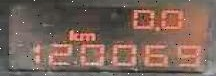-: (154, 25, 159, 30)
0: (109, 43, 135, 65), (78, 43, 104, 65), (158, 9, 182, 29), (131, 9, 154, 29)
1: (31, 43, 41, 63)
2: (47, 43, 71, 64)
6: (142, 44, 166, 65)
9: (175, 45, 200, 66)
X: (77, 32, 94, 40), (67, 29, 78, 40)
